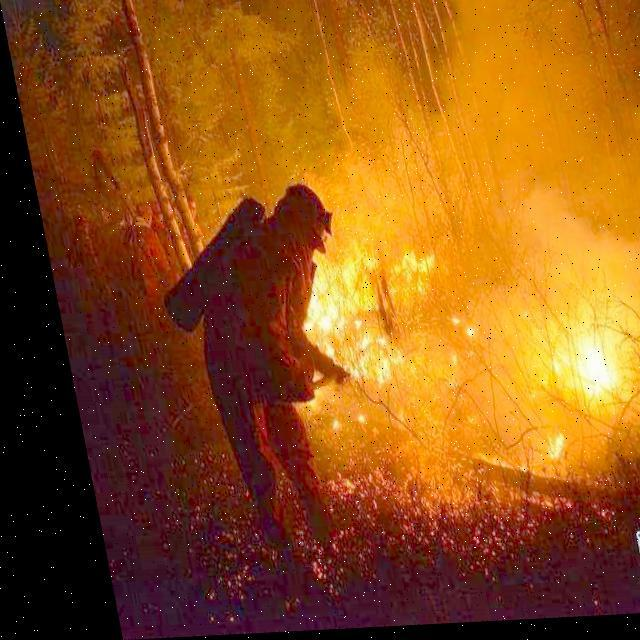Fire: (286, 247, 438, 402), (544, 328, 616, 417), (516, 430, 554, 469)
